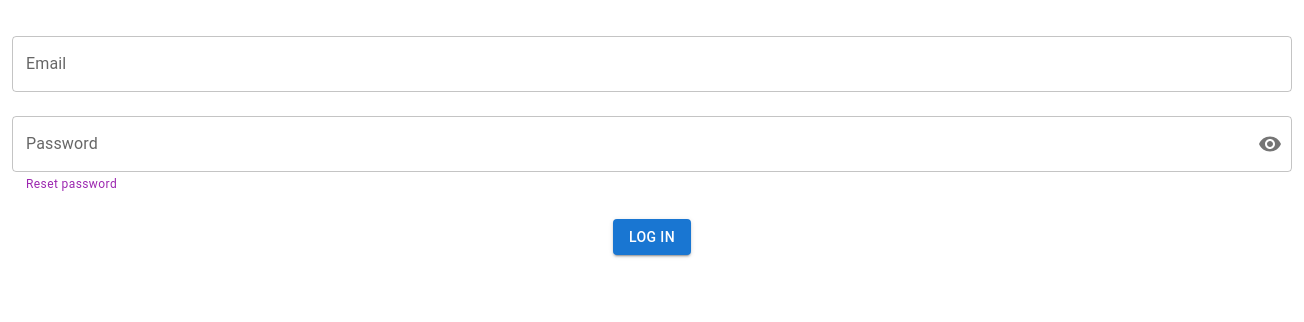
should render form-level error message when login button is clicked › should render an error message if at least one field is invalid
Type "helloworld.com" into the field labelled "Email". click: [652, 64]
box: [12,36,1292,92]
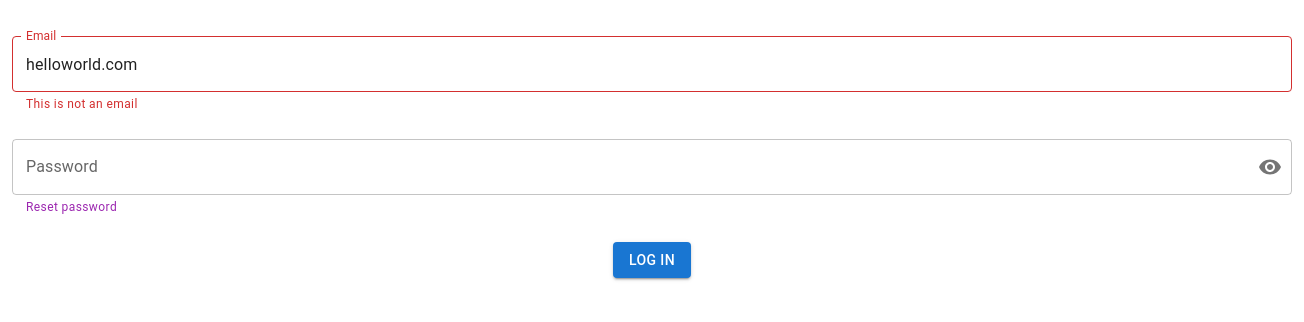
Type "123Gh@jeproFt" into the password field labelled "Password". click: [627, 167]
box: [12,139,1242,195]
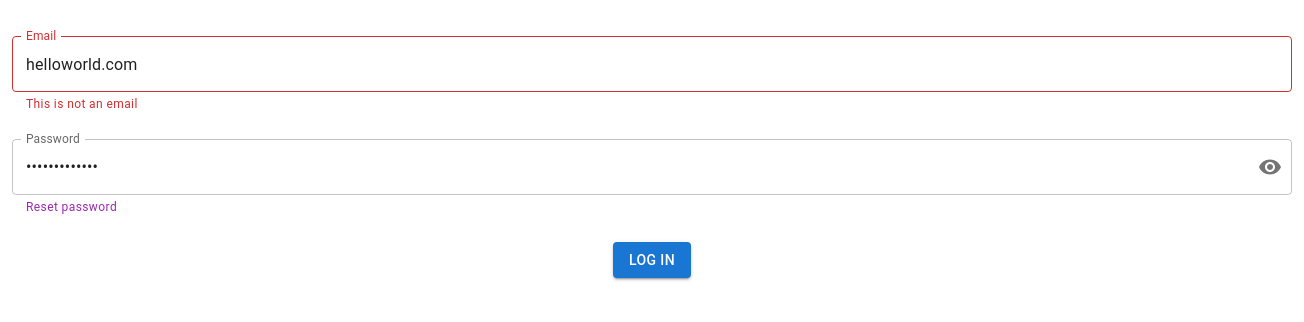
Click the button titled "login". click: [652, 260]
box: [613,242,691,278]
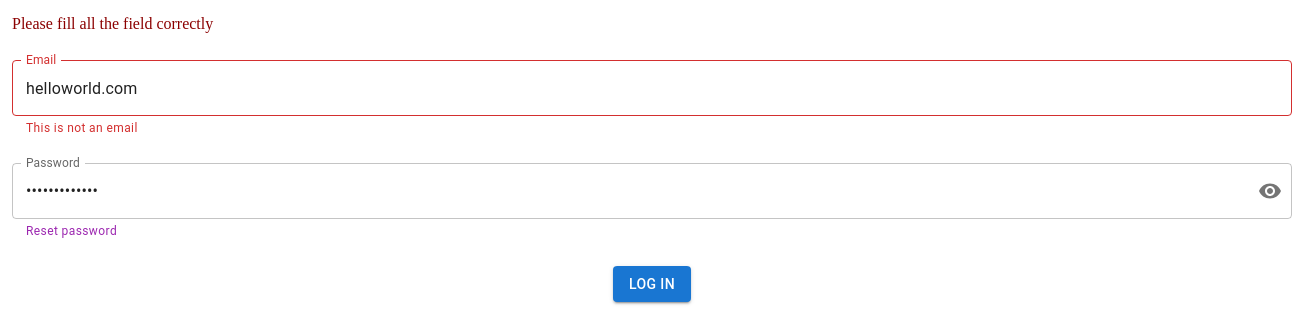
Check: the element titled "error-form" is shown, box [12,15,213,32]
